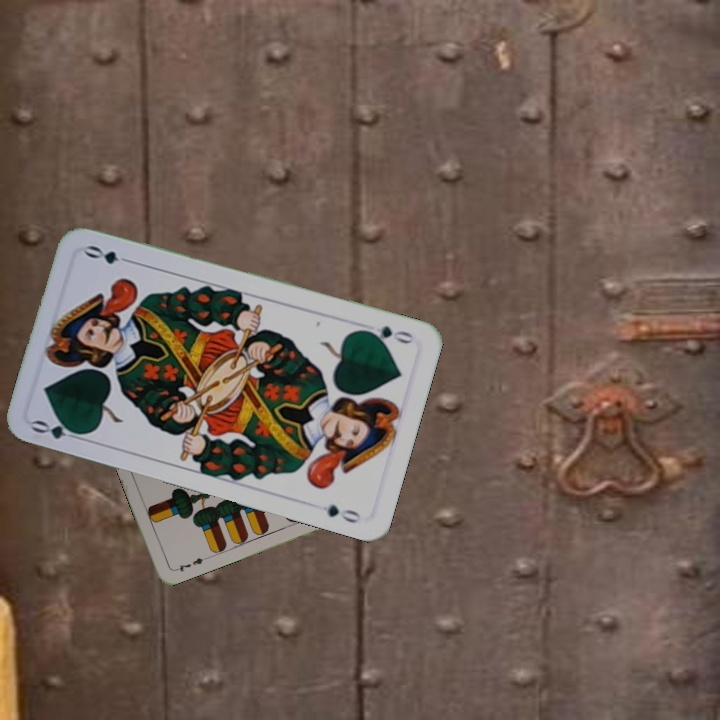E7: (169, 553, 209, 574)
GO: (28, 415, 88, 444), (358, 321, 416, 347)
